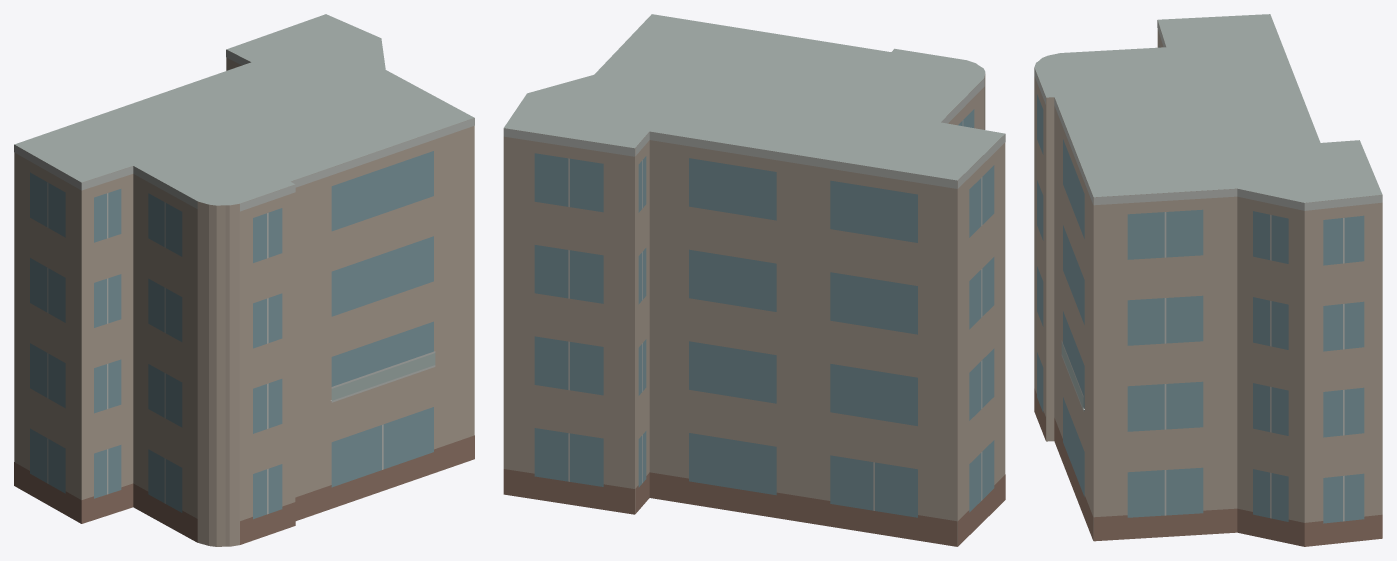
Rendered from survey-upis-32502231.glb.
3 renders of one model, left to right at view 1: azimuth 30°, elevation 25°; view 2: azimuth 150°, elevation 25°; view 3: azimuth 270°, elevation 25°, orthographic. The views are drawn at different scales.
Parts seen in each view (by area): view 1: survey-upis-32502231.tmp; view 2: survey-upis-32502231.tmp; view 3: survey-upis-32502231.tmp.
Boxes of the visible parts, left/top/right/bottom form: survey-upis-32502231.tmp: left=14, top=14, right=474, bottom=546; survey-upis-32502231.tmp: left=503, top=14, right=1005, bottom=546; survey-upis-32502231.tmp: left=1034, top=14, right=1382, bottom=546.
Bounding box in the file's own units: 12.38 × 10.5 × 9.65.
